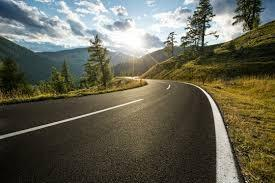road: (0, 79, 215, 182)
